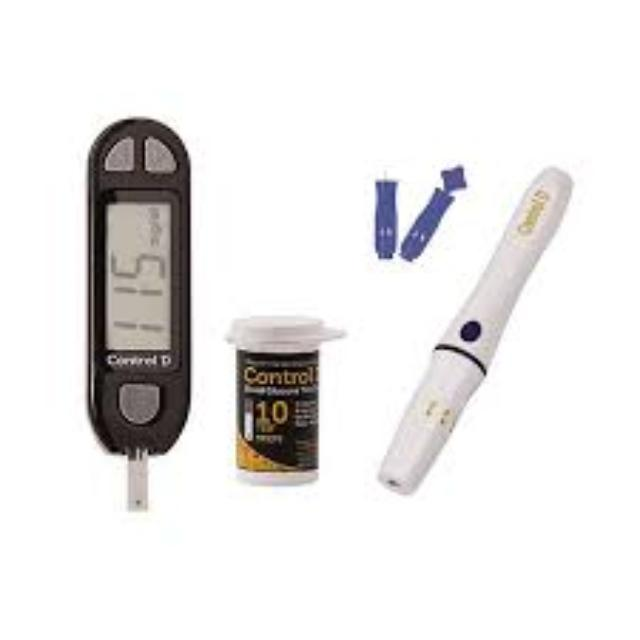Glucose-Meter: (90, 119, 190, 509)
